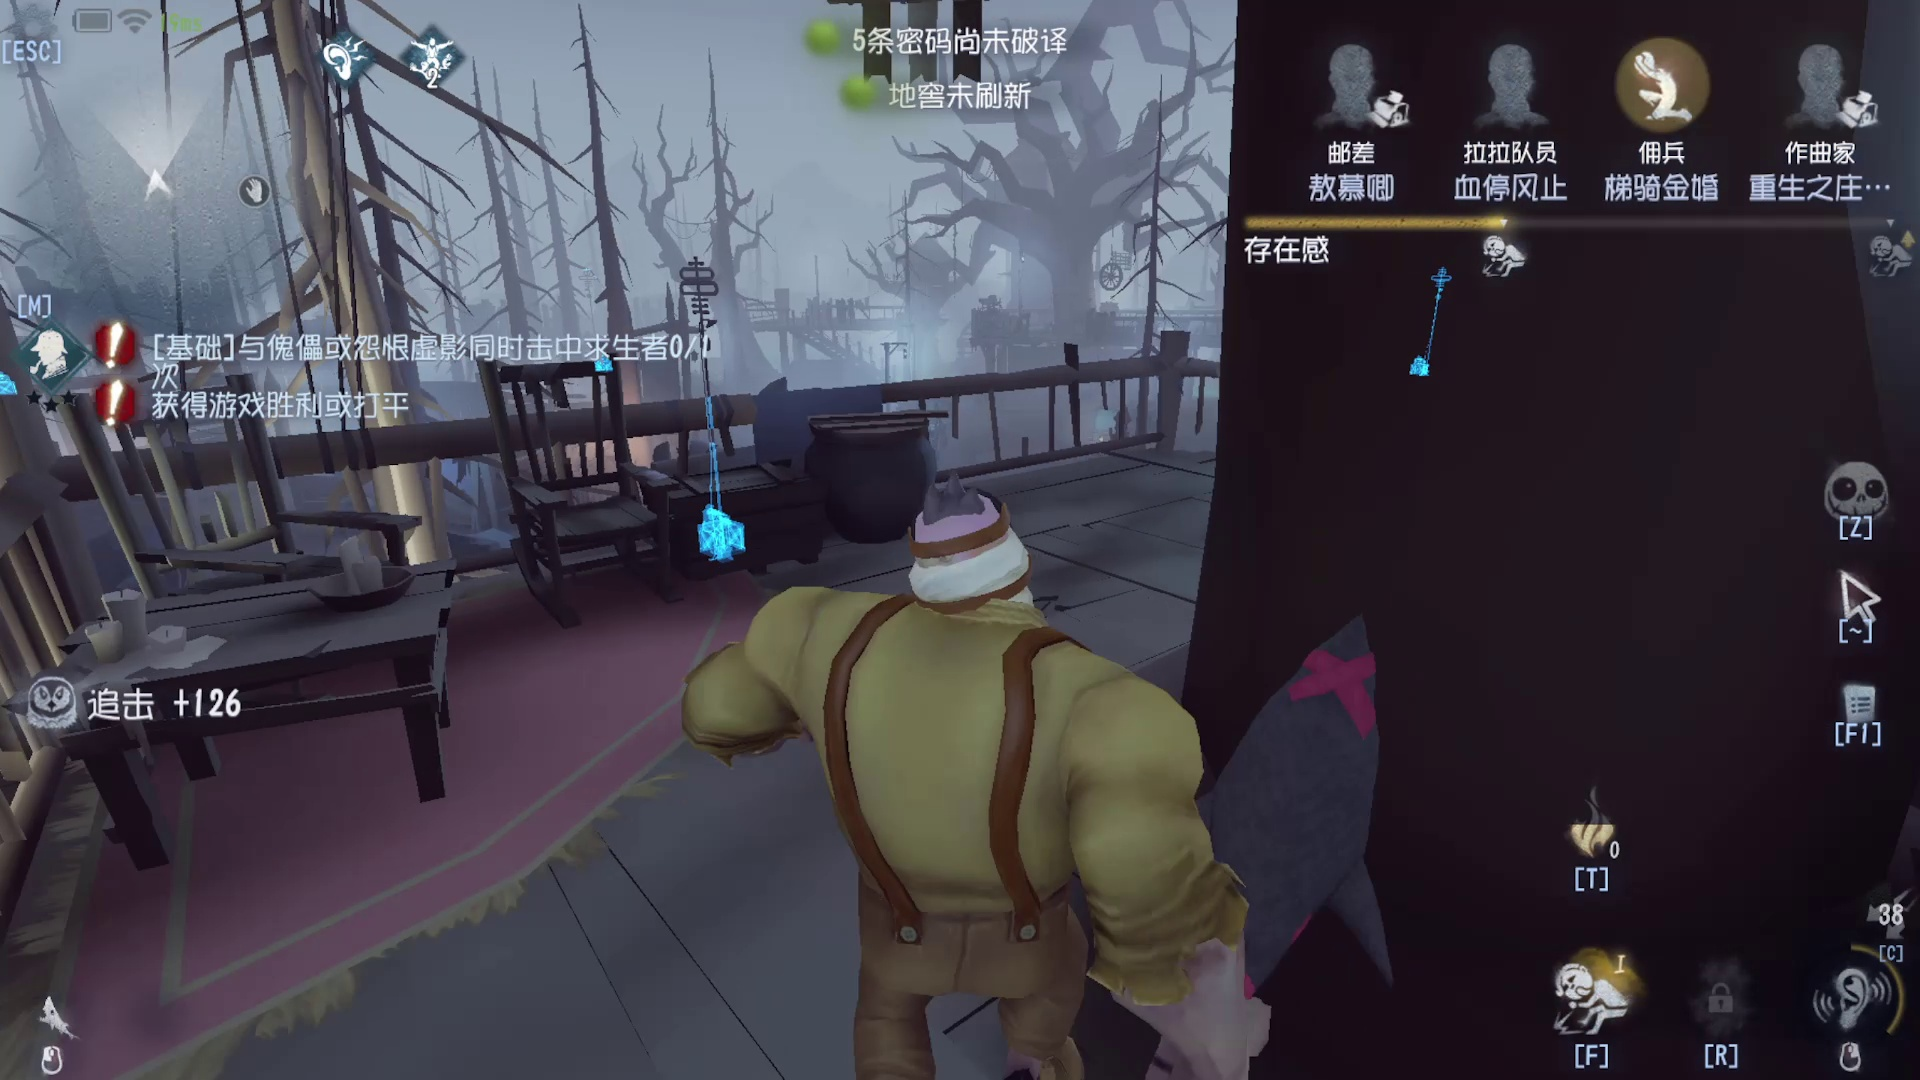密码机: (642, 236, 782, 600), (1382, 251, 1458, 393)
